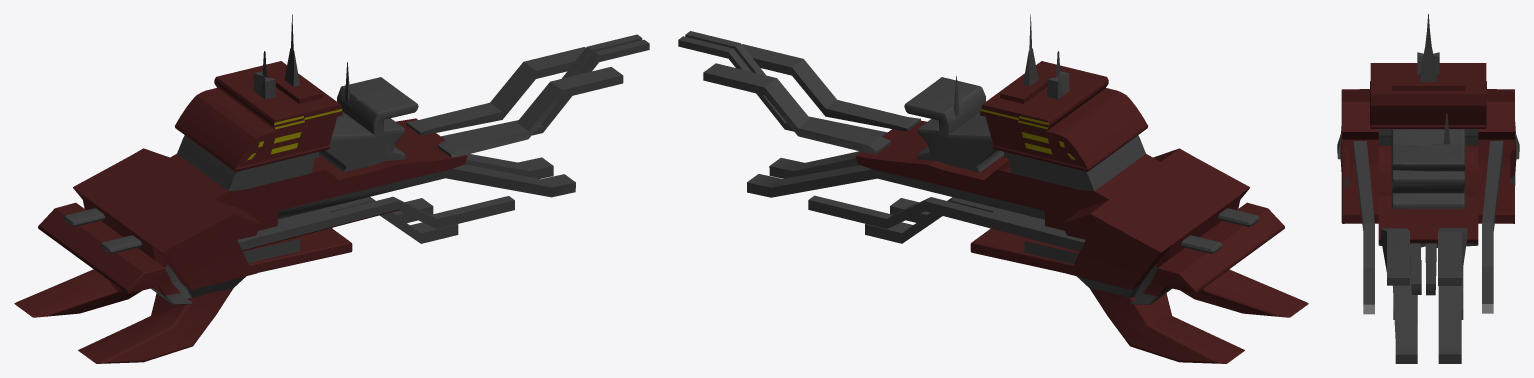
Rendered from BigShip.fbx.
3 views of the same model, side by side, from view 1: azimuth 30°, elevation 25°; view 2: azimuth 150°, elevation 25°; view 3: azimuth 270°, elevation 25° (orthographic). The views are drawn at different scales.
Visible parts, largest first — view 1: pCube1; view 2: pCube1; view 3: pCube1.
Boxes of the visible parts, left/top/right/bottom form: pCube1: left=14, top=14, right=649, bottom=363; pCube1: left=678, top=14, right=1308, bottom=363; pCube1: left=1337, top=14, right=1519, bottom=363.
Bounding box in the file's own units: 35.21 × 15.49 × 9.78.
